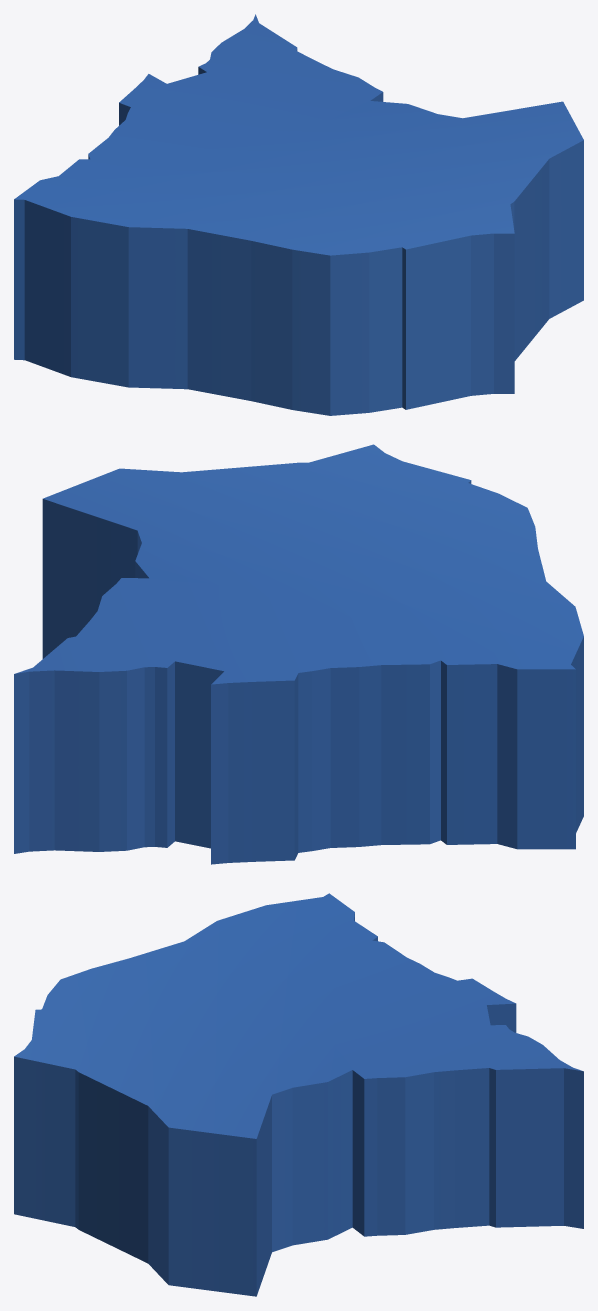
File: piscataway.glb
3 views of the same model, one above another, from view 1: azimuth 30°, elevation 25°; view 2: azimuth 150°, elevation 25°; view 3: azimuth 270°, elevation 25° (orthographic). The views are drawn at different scales.
Visible parts, largest first — view 1: Plane.002; view 2: Plane.002; view 3: Plane.002.
Boxes of the visible parts, box(x1,y1,x2,y2) form: Plane.002: box(14, 14, 583, 415); Plane.002: box(14, 444, 583, 864); Plane.002: box(14, 893, 583, 1296).
Size of the model in its own units: 1.22 by 0.3658 by 1.2.
1 material, 1 textured.
